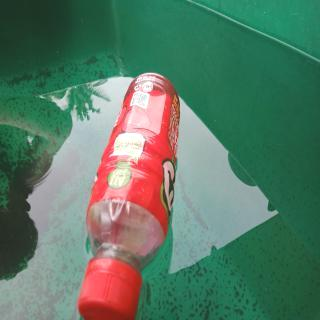bottle: (76, 71, 181, 320)
